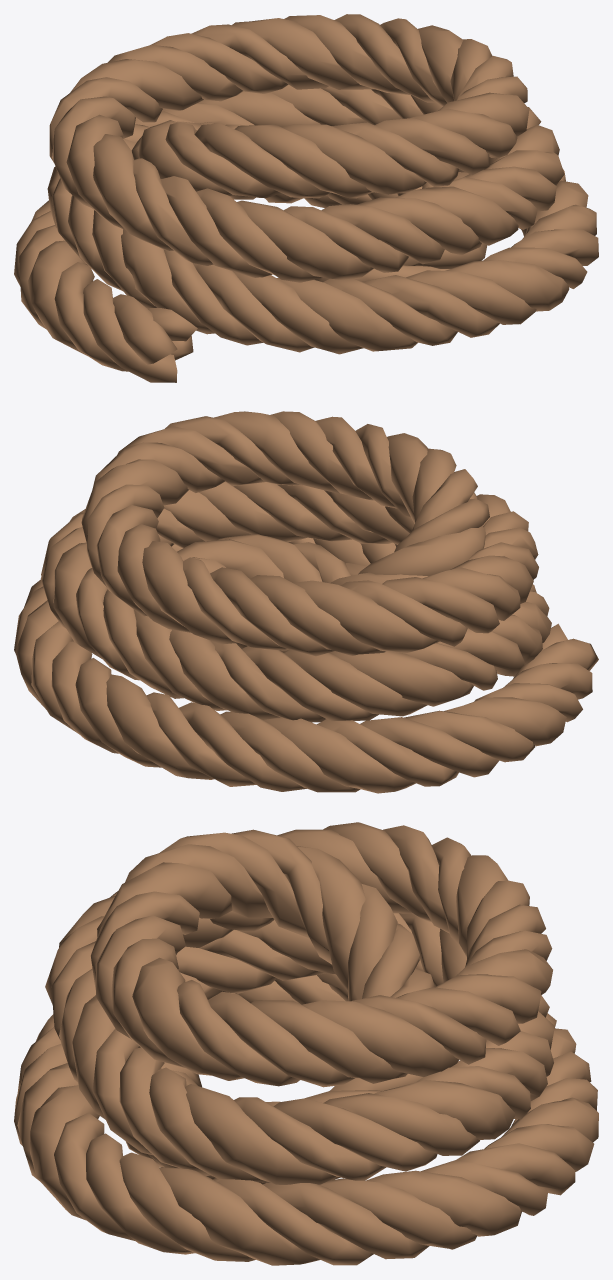
File: Rope.fbx
3 views of the same model, one above another, from view 1: azimuth 30°, elevation 25°; view 2: azimuth 150°, elevation 25°; view 3: azimuth 270°, elevation 25° (orthographic). The views are drawn at different scales.
Parts seen in each view (by area): view 1: Rope_LOD0; view 2: Rope_LOD0; view 3: Rope_LOD0.
Boxes of the visible parts, x1,y1,x2,y2 form: Rope_LOD0: [14, 14, 598, 382]; Rope_LOD0: [14, 411, 598, 793]; Rope_LOD0: [14, 822, 598, 1265].
Size of what is drawn, in the model's own units: 37.23 by 15.24 by 31.75.
